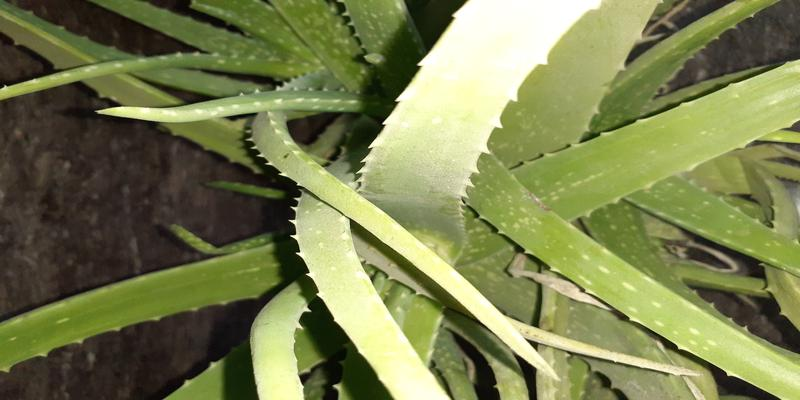Aloevera: (164, 31, 749, 385)
